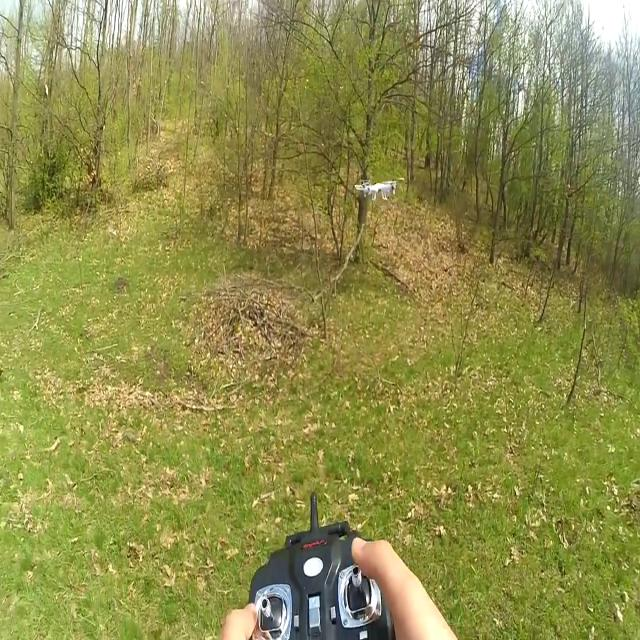drones: (349, 166, 407, 222)
